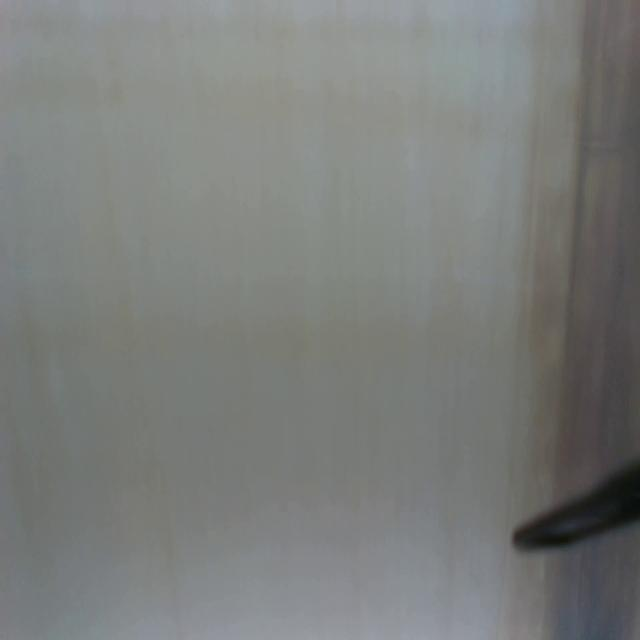color bleeding: (509, 0, 640, 466)
